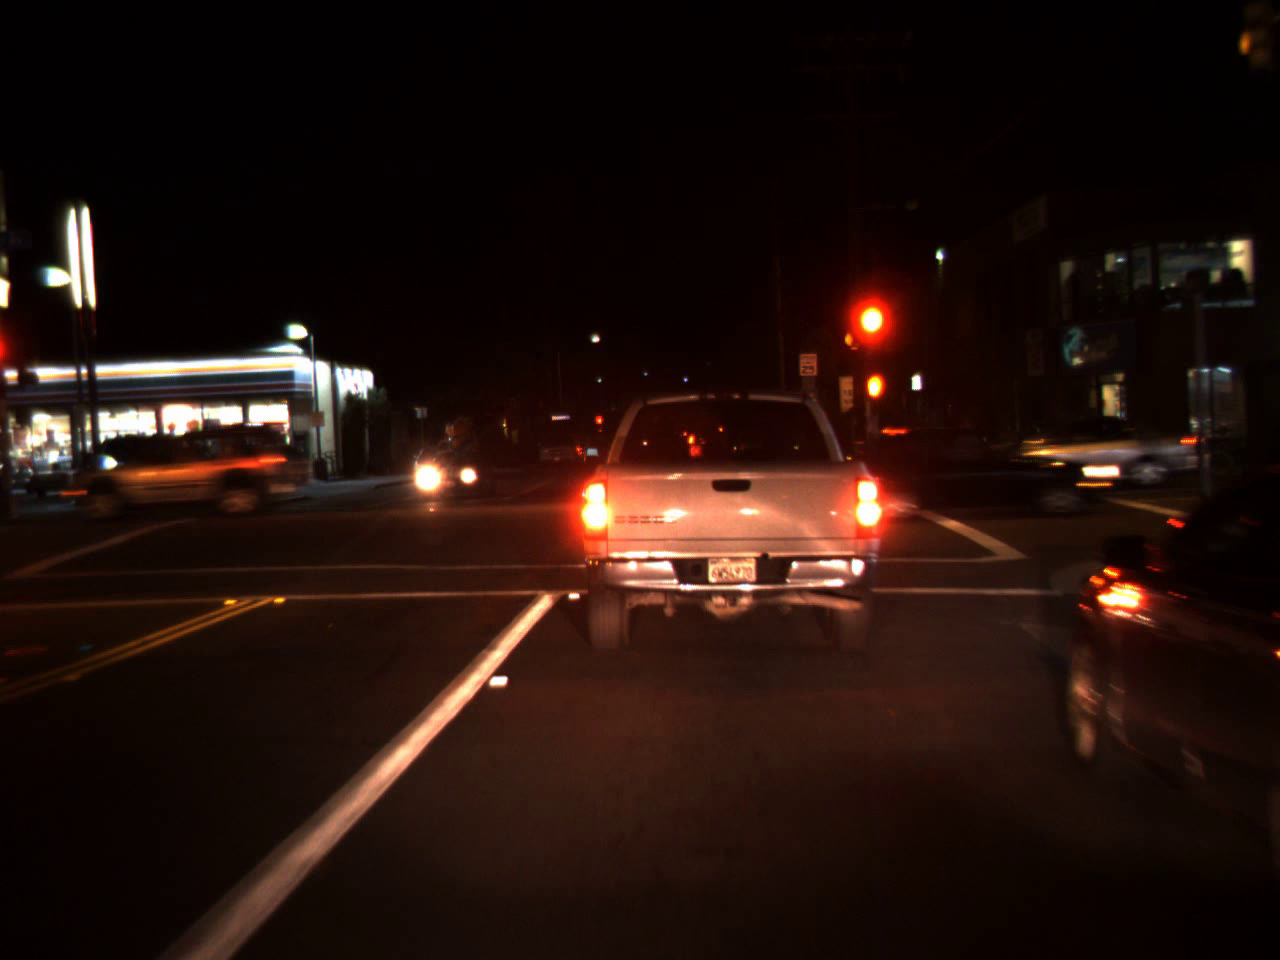stop: (853, 303, 889, 367), (594, 414, 603, 435)
